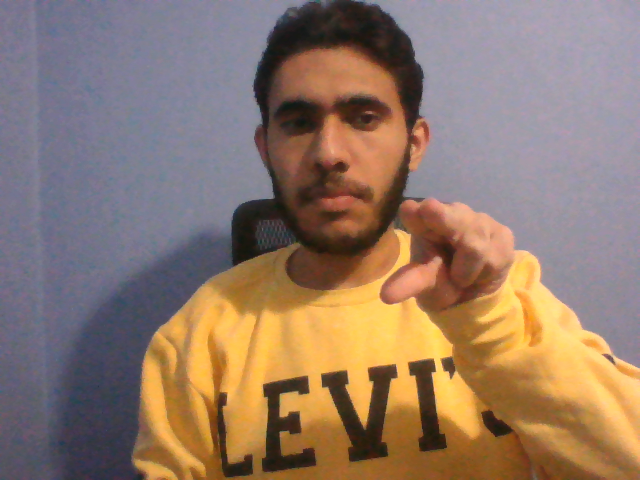no: (378, 191, 520, 315)
